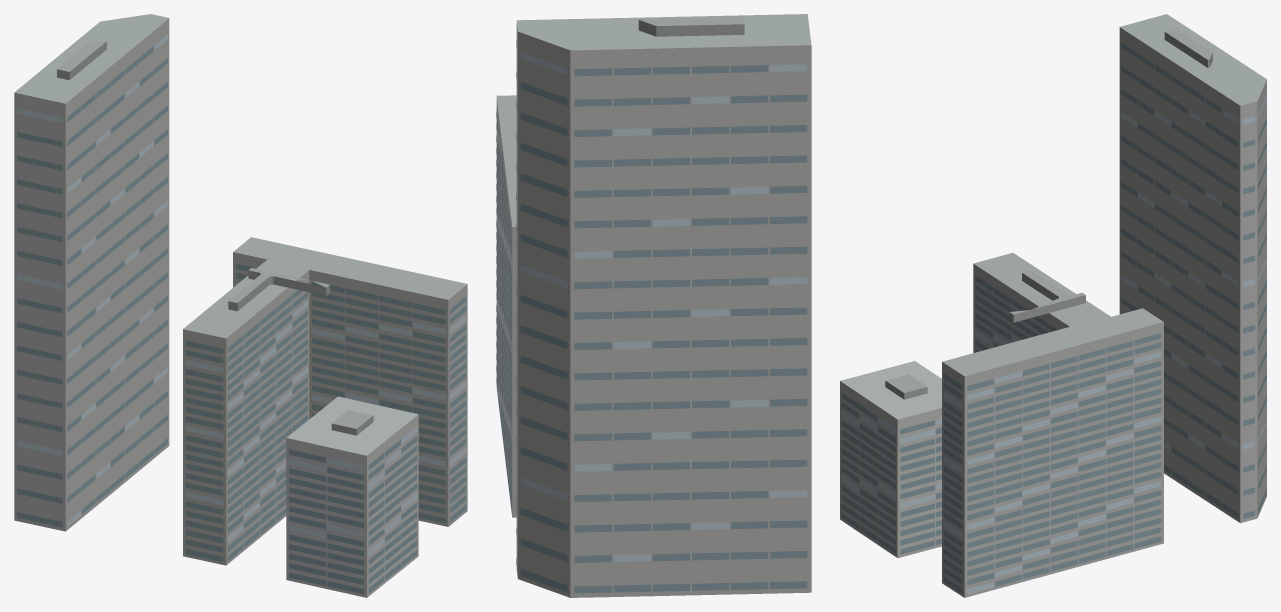
Rendered from apt-a15284305.glb.
3 renders of one model, left to right at view 1: azimuth 30°, elevation 25°; view 2: azimuth 150°, elevation 25°; view 3: azimuth 270°, elevation 25°, orthographic. The views are drawn at different scales.
Visible parts, largest first — view 1: apt-a15284305; view 2: apt-a15284305; view 3: apt-a15284305.
Boxes of the visible parts, x1,y1,x2,y2 form: apt-a15284305: [14, 14, 467, 597]; apt-a15284305: [496, 14, 811, 597]; apt-a15284305: [840, 14, 1266, 597].
Bounding box in the file's own units: 106 × 126 × 115.
